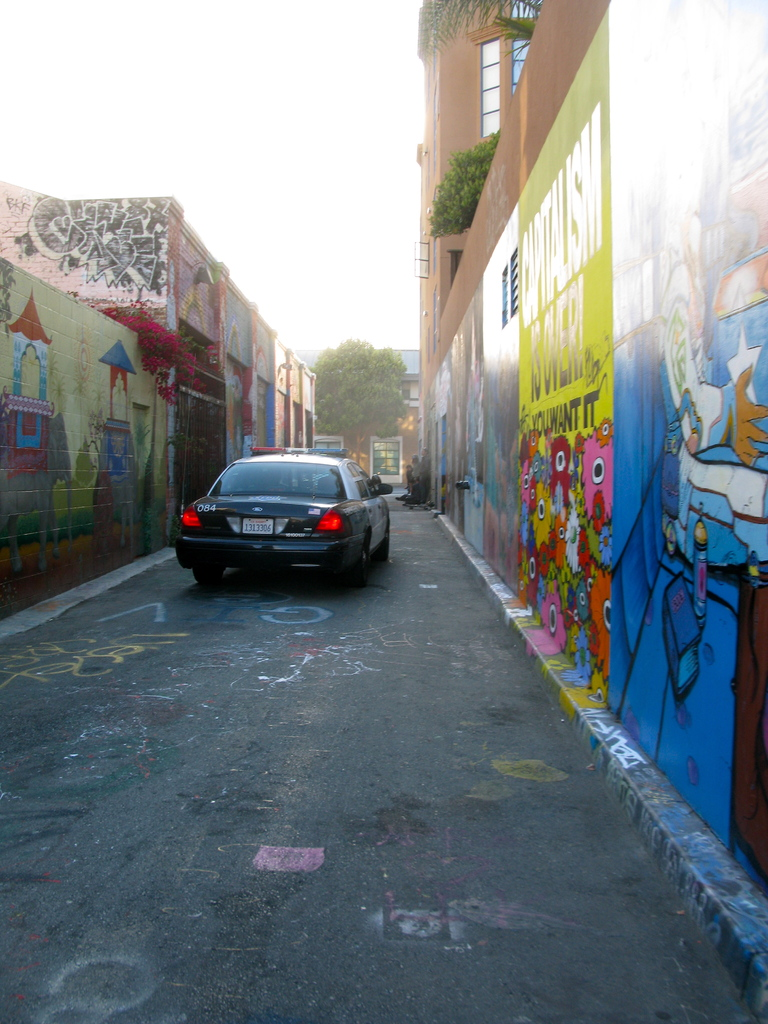Car: (171, 448, 393, 597)
